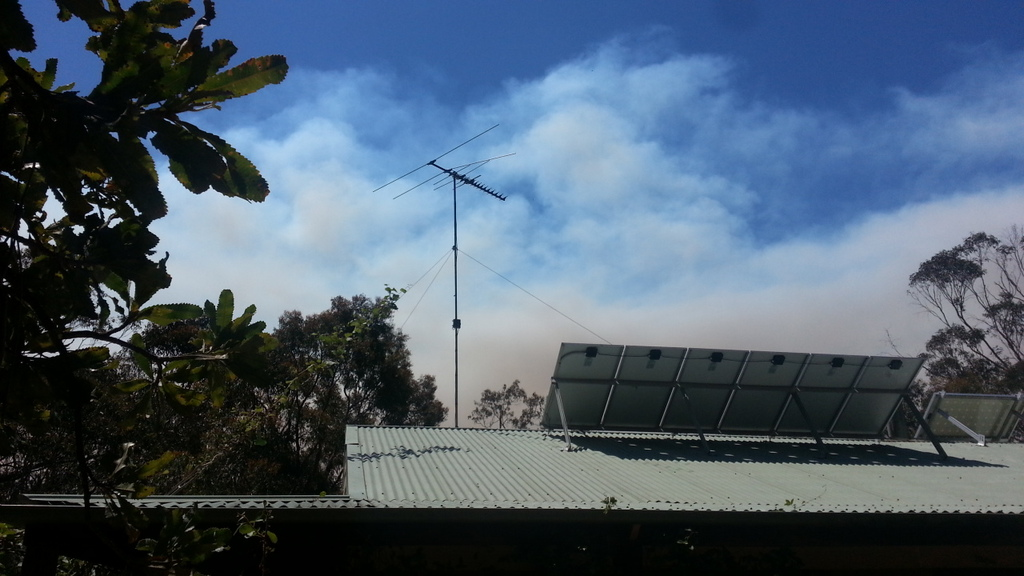Tree: (245, 282, 448, 499), (900, 211, 1014, 405), (468, 381, 546, 429)
